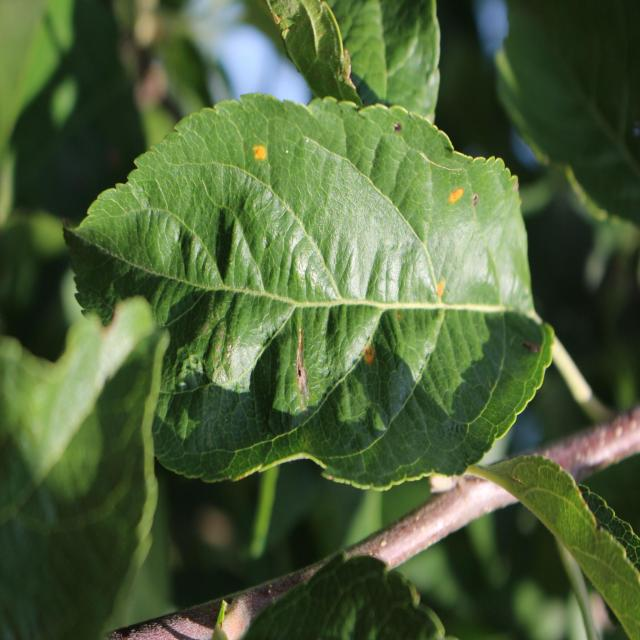Rust: (245, 136, 275, 172), (430, 269, 453, 308), (356, 338, 379, 376), (447, 176, 465, 212)
